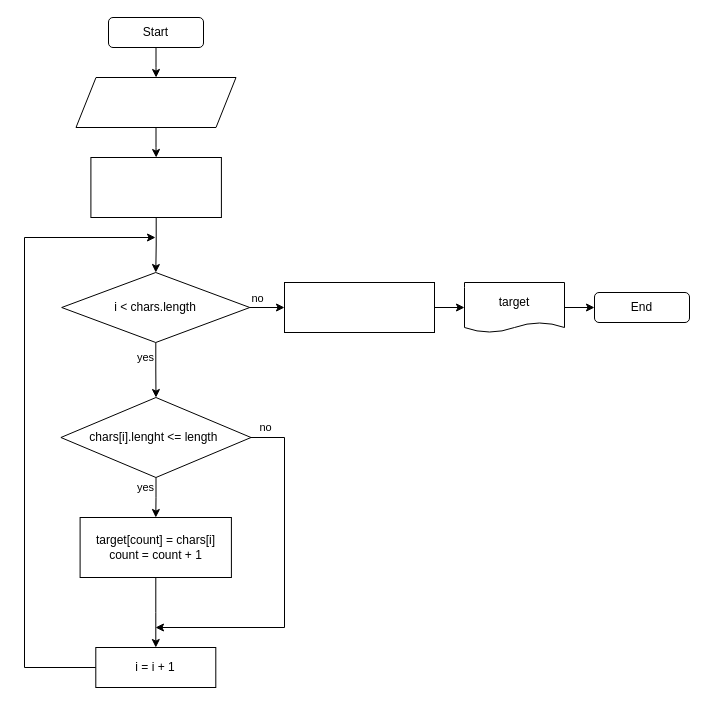
Some shapes in this 707 by 705 pixel diagram are drawn without their labels. Each missing label, with the centre of its shape:
size chars[size]: (155,102)
target.resize(count): (359,307)
target[chars.length] i = 0 count = 0 length = 3: (155,187)
